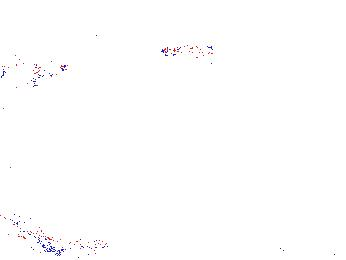redtail glassfish: (158, 37, 219, 65), (1, 59, 69, 82)
siberian prawn: (15, 224, 125, 258)
